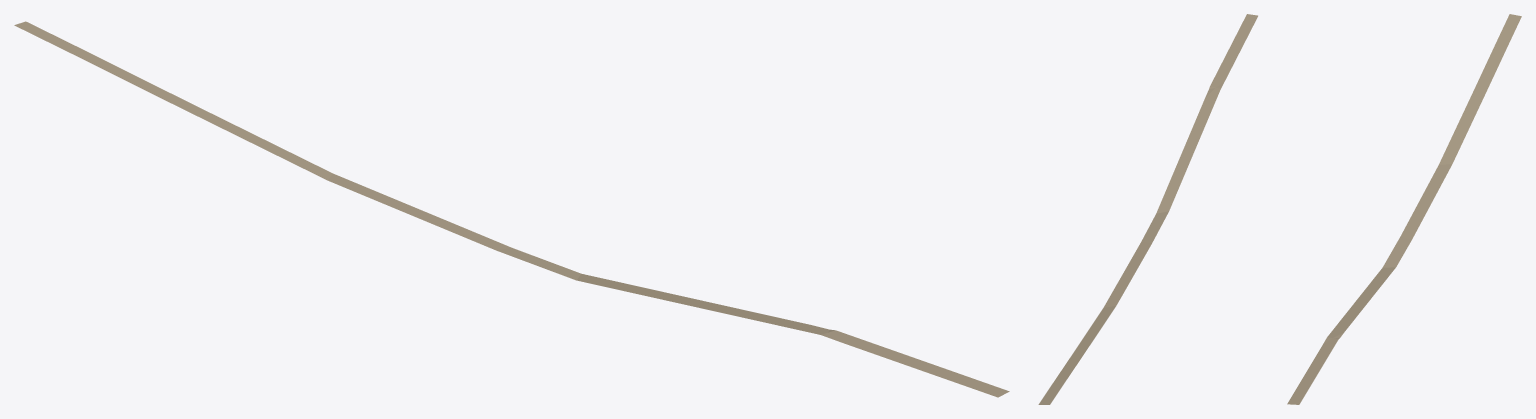
The model's file is farm_-15_-26_track.glb.
3 views of the same model, side by side, from view 1: azimuth 30°, elevation 25°; view 2: azimuth 150°, elevation 25°; view 3: azimuth 330°, elevation 25° (orthographic). The views are drawn at different scales.
Visible parts, largest first — view 1: geometry_0; view 2: geometry_0; view 3: geometry_0.
Boxes of the visible parts, bbox=[...] form: geometry_0: bbox=[14, 21, 1009, 397]; geometry_0: bbox=[1038, 14, 1257, 404]; geometry_0: bbox=[1287, 14, 1521, 404].
Size of the model in its own units: 76.76 by 11.11 by 244.
